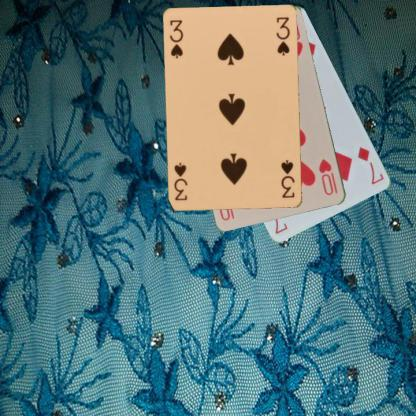10h: (316, 156, 339, 196)
3s: (278, 157, 297, 200), (167, 18, 185, 60)
7d: (356, 144, 386, 186)
